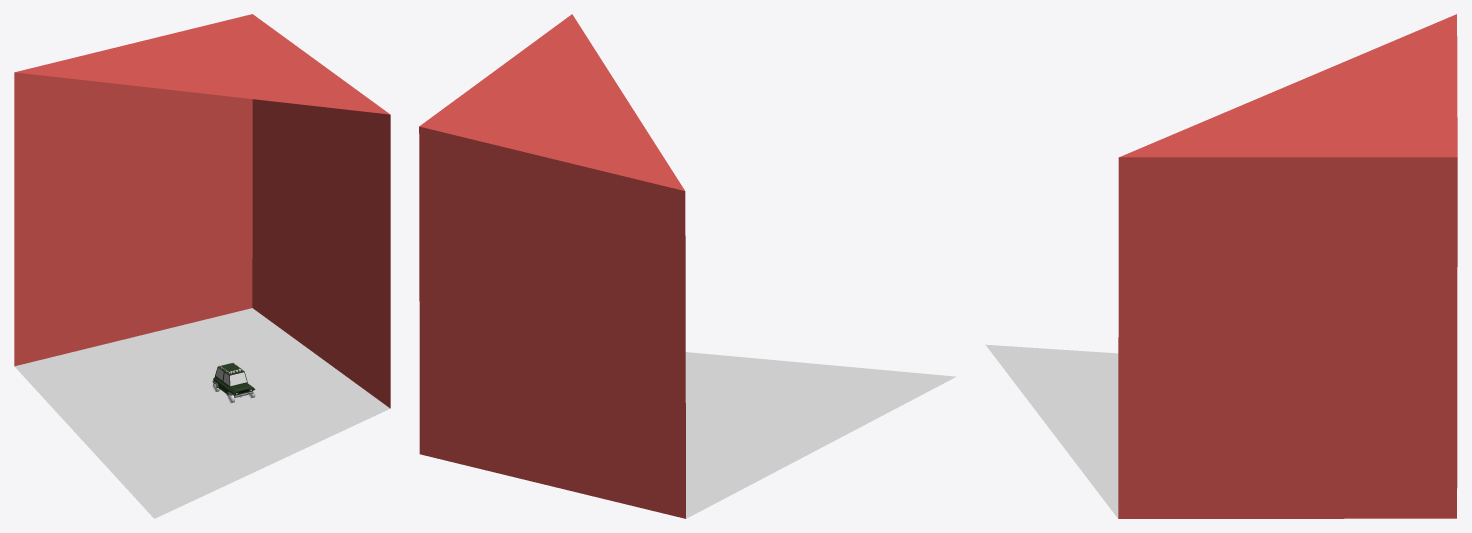
Rendered from jeep.fbx.
3 views of the same model, side by side, from view 1: azimuth 30°, elevation 25°; view 2: azimuth 150°, elevation 25°; view 3: azimuth 270°, elevation 25° (orthographic). The views are drawn at different scales.
Parts seen in each view (by area): view 1: Plane; view 2: Plane; view 3: Plane.
Boxes of the visible parts, x1,y1,x2,y2 form: Plane: [14, 14, 390, 518]; Plane: [419, 14, 956, 518]; Plane: [985, 14, 1457, 518].
Size of the model in its own units: 1367 by 1322 by 1564.
